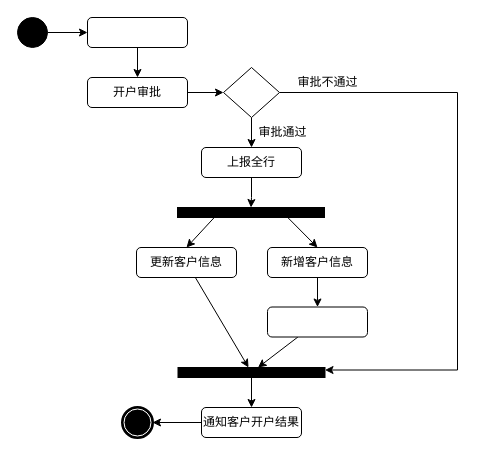
Image size: 483x455. Some labels were removed from this diagram. The centre of each missing label's shape, as x and y in pixels:
点击开户按钮: (x=137, y=32)
返回并保存客户唯一标识: (x=317, y=321)
